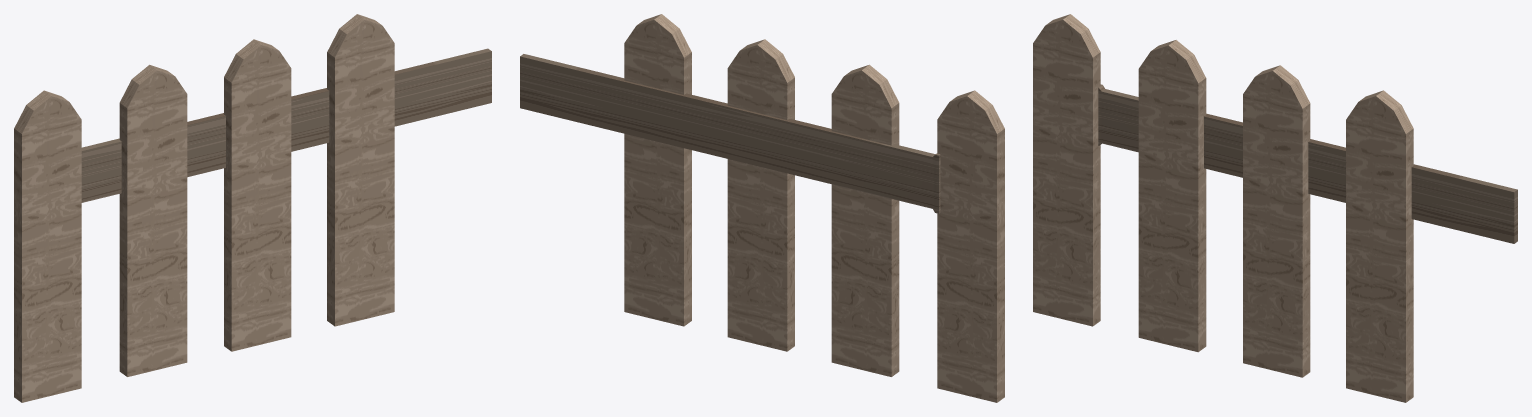
Rendered from fenceModel.fbx.
The picture shows the model from 3 angles, left to right: view 1: azimuth 30°, elevation 25°; view 2: azimuth 150°, elevation 25°; view 3: azimuth 330°, elevation 25°; orthographic projection.
Visible parts, largest first — view 1: pCube16; view 2: pCube16; view 3: pCube16.
Part boxes in pixels (bbox=[...]): pCube16: bbox=[14, 14, 491, 402]; pCube16: bbox=[520, 14, 1004, 402]; pCube16: bbox=[1033, 14, 1517, 402].
Bounding box in the file's own units: 12.95 × 7.79 × 0.4493.
Materials: 1 (1 with a texture image).
